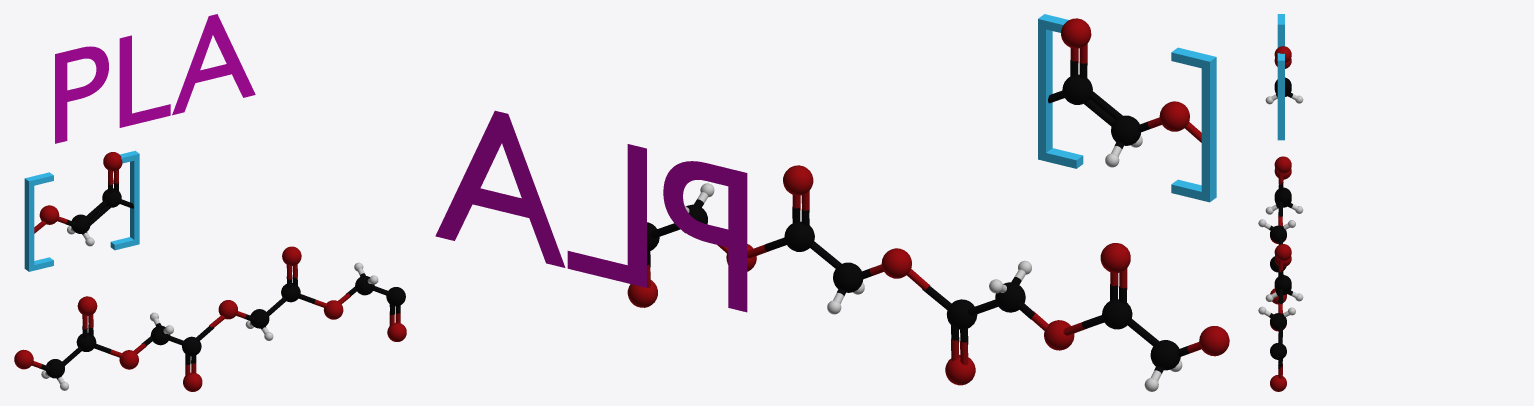
The model's file is PLA.obj.
3 views of the same model, side by side, from view 1: azimuth 30°, elevation 25°; view 2: azimuth 150°, elevation 25°; view 3: azimuth 270°, elevation 25° (orthographic). The views are drawn at different scales.
Parts seen in each view (by area): view 1: Text.003_Text.072, Cube.007_Cube.012, Cube.008_Cube.013; view 2: Text.003_Text.072, Cube.007_Cube.012, Cube.008_Cube.013, Shape_IndexedFaceSet.1162_Shape_IndexedFaceSet.1356, Shape_IndexedFaceSet.1169_Shape_IndexedFaceSet.1363, Shape_IndexedFaceSet.1446_Shape_IndexedFaceSet.1641, Shape_IndexedFaceSet.1479_Shape_IndexedFaceSet.1693, Shape_IndexedFaceSet.1484_Shape_IndexedFaceSet.1698, Shape_IndexedFaceSet.1441_Shape_IndexedFaceSet.1636, Shape_IndexedFaceSet.1438_Shape_IndexedFaceSet.1633, Shape_IndexedFaceSet.1476_Shape_IndexedFaceSet.1690, Shape_IndexedFaceSet.1155_Shape_IndexedFaceSet.1349 (+5 smaller); view 3: Cube.008_Cube.013, Cube.007_Cube.012, Shape_IndexedFaceSet.1441_Shape_IndexedFaceSet.1636, Shape_IndexedFaceSet.1479_Shape_IndexedFaceSet.1693, Shape_IndexedFaceSet.1495_Shape_IndexedFaceSet.1709.
Boxes of the visible parts, x1,y1,x2,y2 form: Text.003_Text.072: (55, 14, 255, 143); Cube.007_Cube.012: (24, 172, 53, 271); Cube.008_Cube.013: (110, 150, 139, 250); Text.003_Text.072: (435, 110, 747, 312); Cube.007_Cube.012: (1171, 47, 1216, 202); Cube.008_Cube.013: (1038, 14, 1083, 168); Shape_IndexedFaceSet.1162_Shape_IndexedFaceSet.1356: (1061, 18, 1091, 48); Shape_IndexedFaceSet.1169_Shape_IndexedFaceSet.1363: (1159, 101, 1189, 131); Shape_IndexedFaceSet.1446_Shape_IndexedFaceSet.1641: (1199, 326, 1229, 356); Shape_IndexedFaceSet.1479_Shape_IndexedFaceSet.1693: (783, 165, 813, 195); Shape_IndexedFaceSet.1484_Shape_IndexedFaceSet.1698: (881, 248, 911, 278); Shape_IndexedFaceSet.1441_Shape_IndexedFaceSet.1636: (1100, 243, 1130, 273); Shape_IndexedFaceSet.1438_Shape_IndexedFaceSet.1633: (1102, 299, 1132, 329); Shape_IndexedFaceSet.1476_Shape_IndexedFaceSet.1690: (784, 221, 814, 251); Shape_IndexedFaceSet.1155_Shape_IndexedFaceSet.1349: (1062, 74, 1092, 104); Cube.008_Cube.013: (1277, 53, 1284, 140); Cube.007_Cube.012: (1277, 14, 1284, 47); Shape_IndexedFaceSet.1441_Shape_IndexedFaceSet.1636: (1274, 156, 1291, 173); Shape_IndexedFaceSet.1479_Shape_IndexedFaceSet.1693: (1274, 244, 1291, 260); Shape_IndexedFaceSet.1495_Shape_IndexedFaceSet.1709: (1270, 342, 1286, 359).
Size of the model in its own units: 147 by 92.43 by 97.77.
